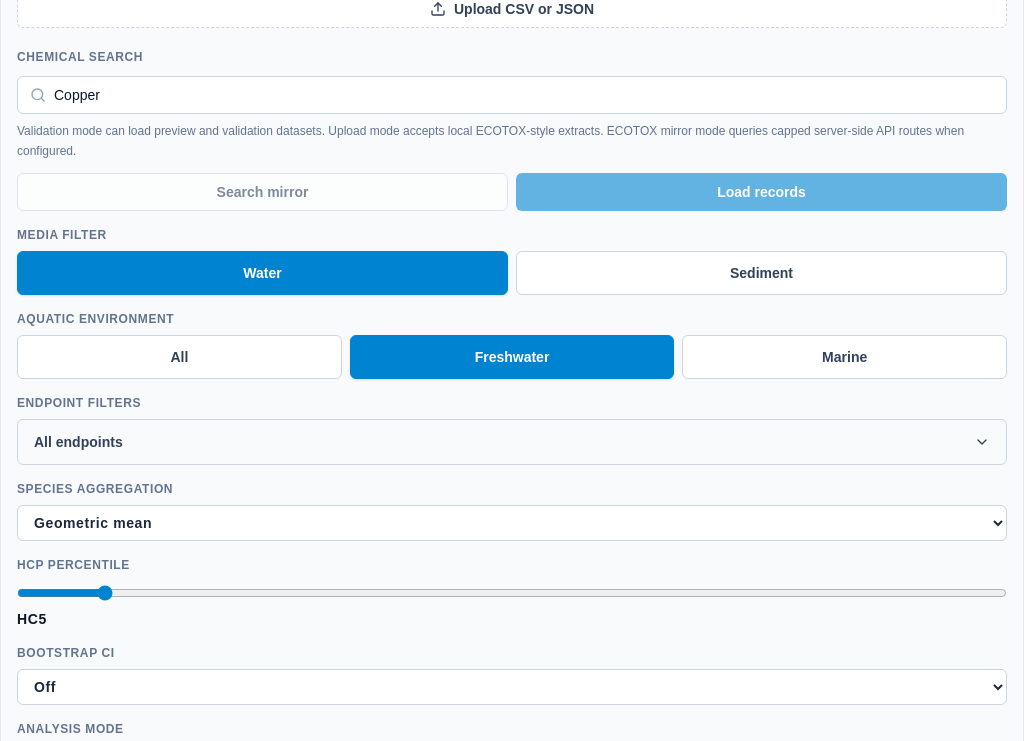
Test: SsdWorkbench › shows an insufficient-data state instead of calculating an HCp value
The width and height of the screenshot is (1024, 741).
(page scrolled)
Click the button "Marine" at (845,357), box [682, 335, 1007, 379]
(page scrolled)
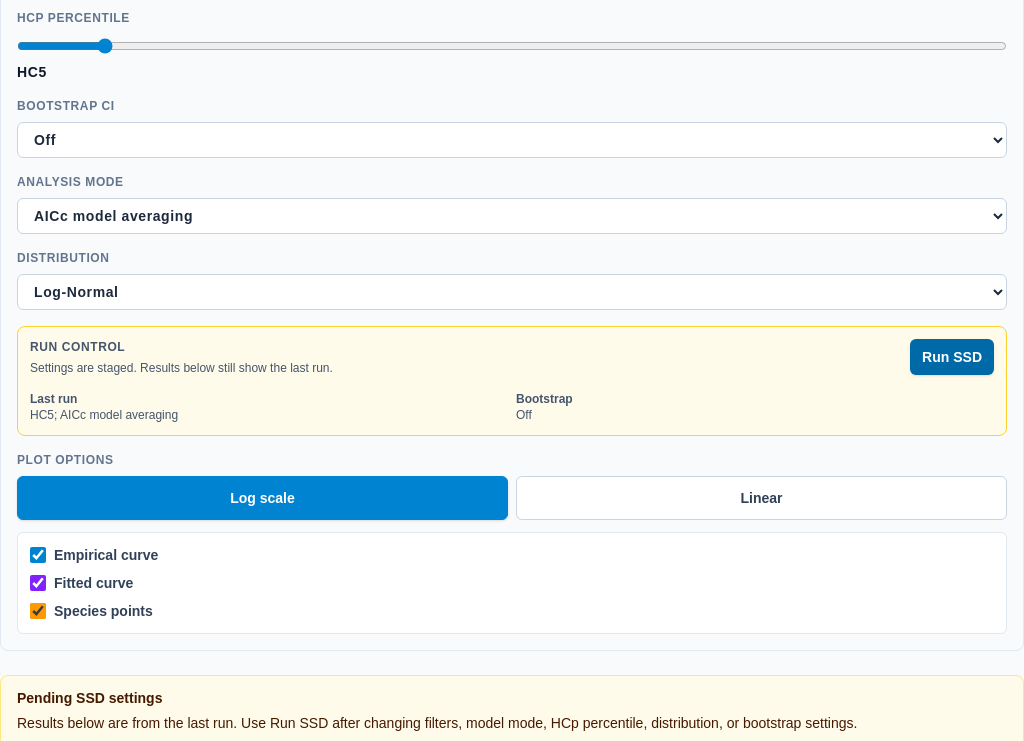
Click the button "Run SSD" at (952,357), box [910, 339, 994, 375]
(page scrolled)
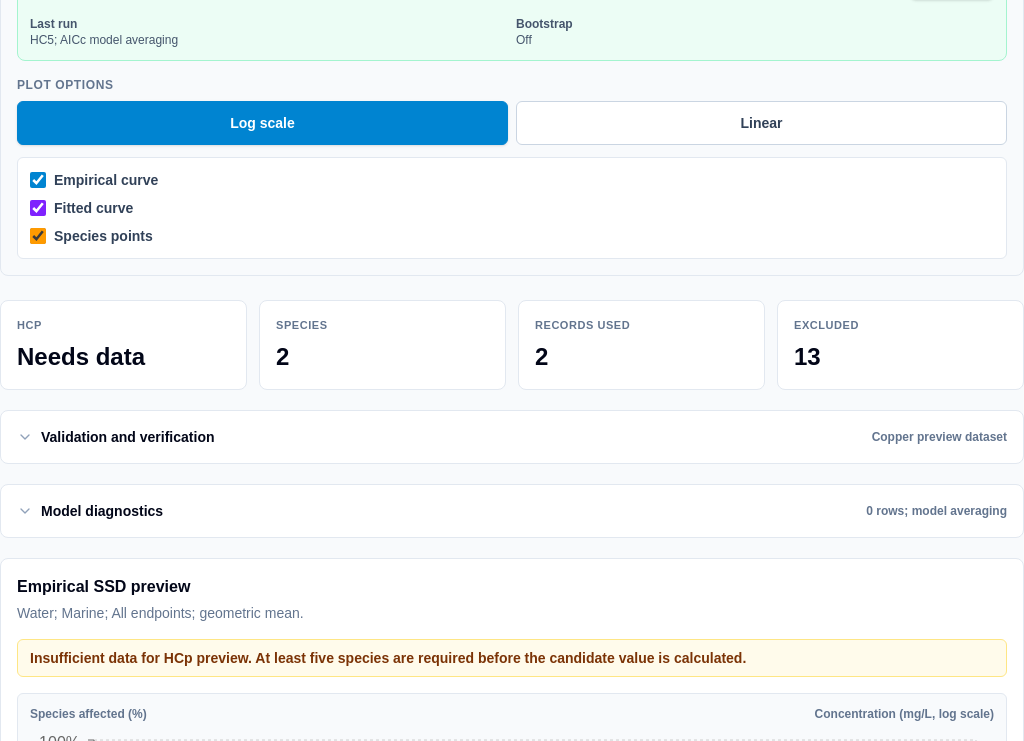
Expected: the text "Needs data" is shown, [17, 343, 145, 370]
Expected: the text "Insufficient data for HCp preview" is shown, [30, 650, 746, 666]
Expected: the 1st text "2" is shown, [276, 343, 289, 370]
